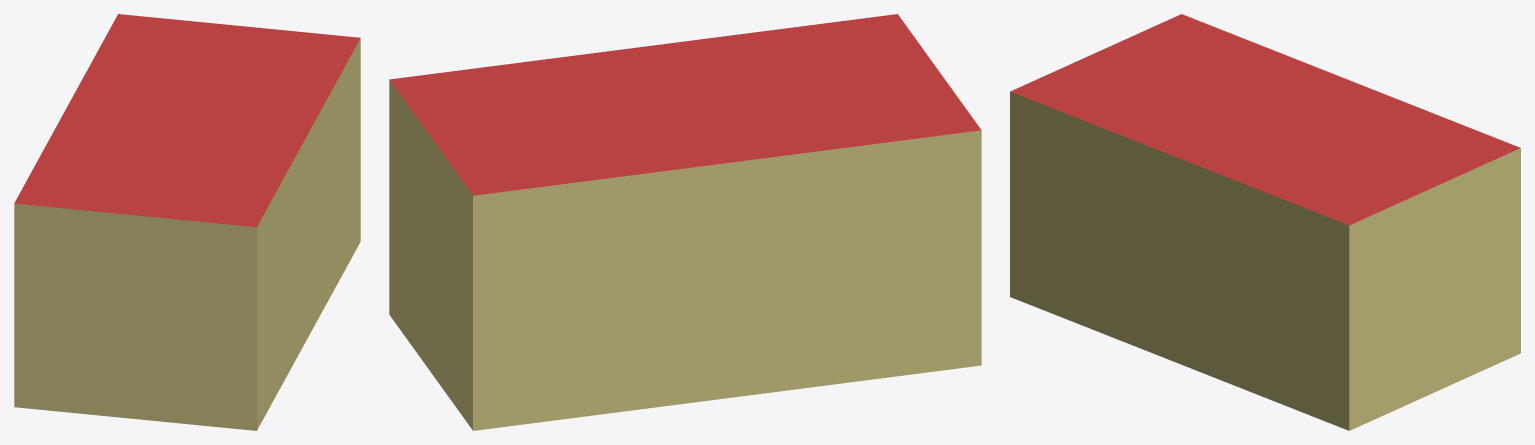
3 views of the same model, side by side, from view 1: azimuth 30°, elevation 25°; view 2: azimuth 150°, elevation 25°; view 3: azimuth 270°, elevation 25° (orthographic). The views are drawn at different scales.
Bounding box in the file's own units: 12.43 × 12.69 × 5.63.
